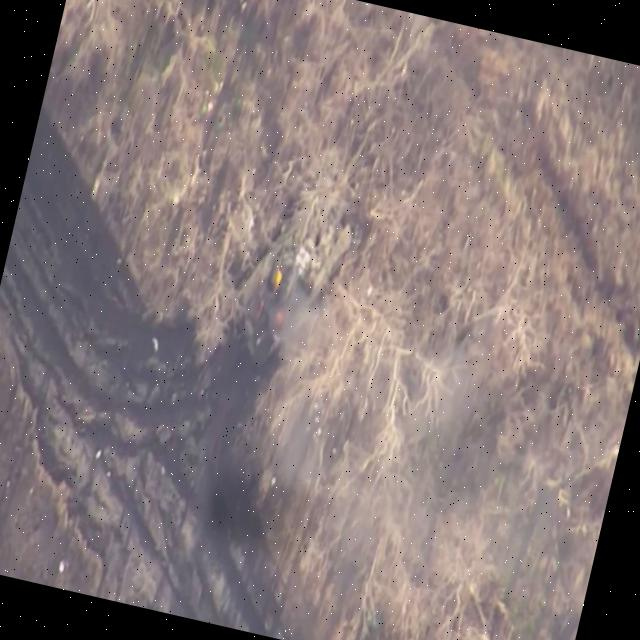MBT: (215, 100, 385, 388)
